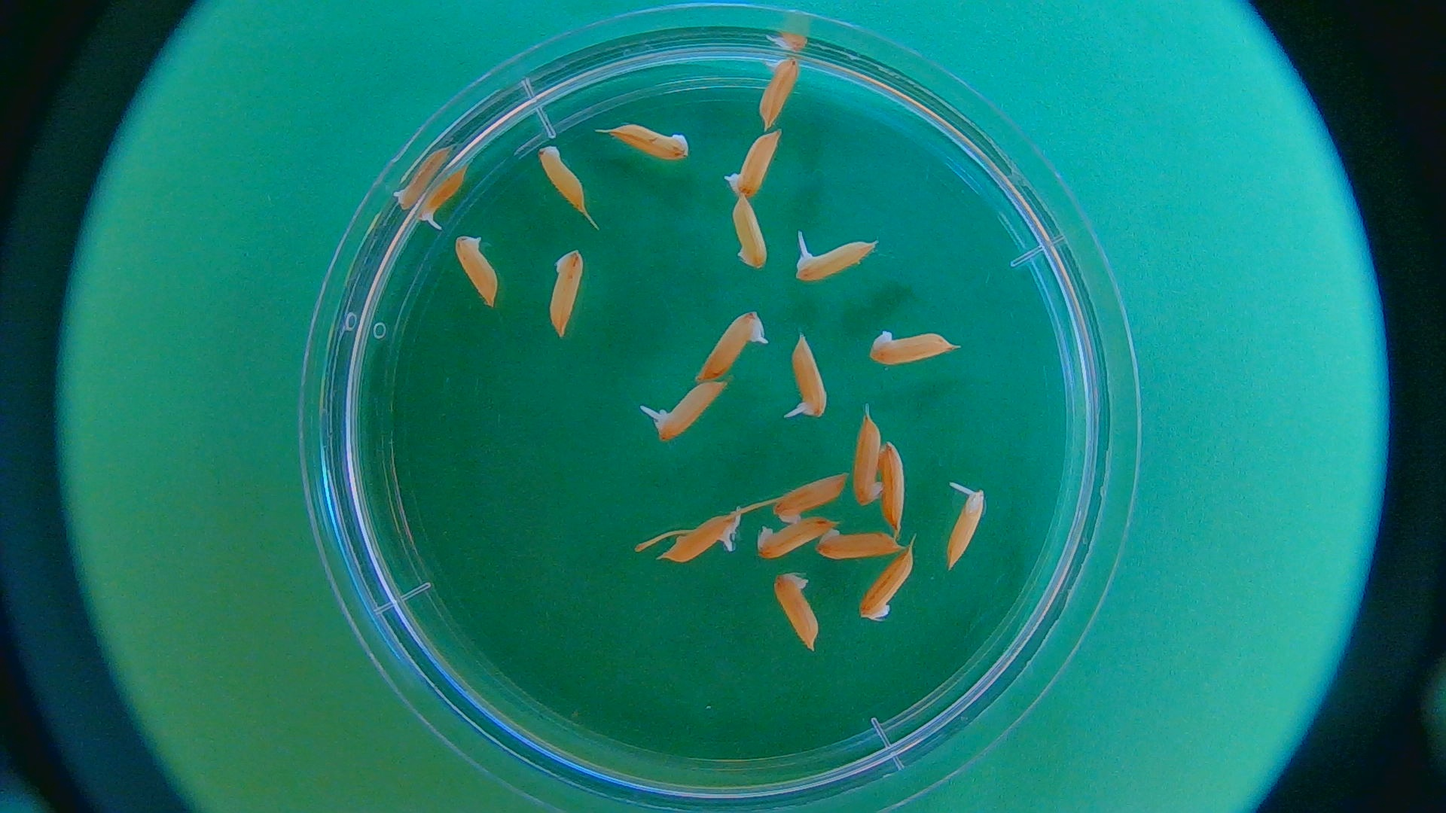no: (597, 115, 703, 171), (539, 246, 591, 347), (722, 126, 790, 202), (858, 541, 918, 626), (449, 230, 508, 316), (764, 469, 850, 528), (767, 570, 827, 654), (529, 142, 595, 218), (866, 329, 966, 374), (876, 440, 919, 534), (726, 191, 771, 276), (852, 406, 888, 510), (814, 525, 901, 567), (755, 516, 836, 561)
yes: (782, 330, 830, 428), (654, 378, 725, 442), (696, 314, 761, 380), (665, 513, 740, 566), (759, 54, 806, 135), (793, 238, 871, 285), (944, 486, 987, 568), (415, 169, 471, 227)
